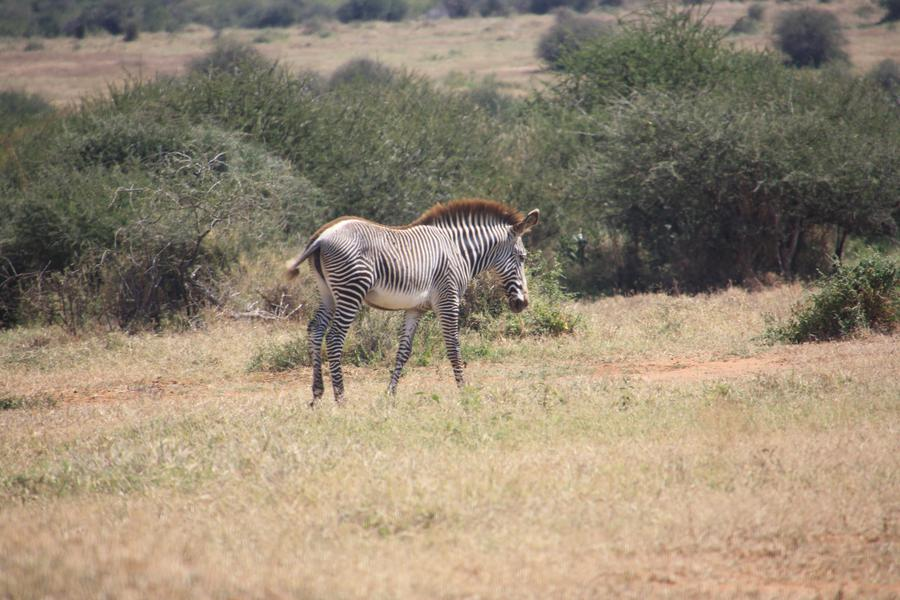zebra_grevys: (315, 210, 462, 293)
